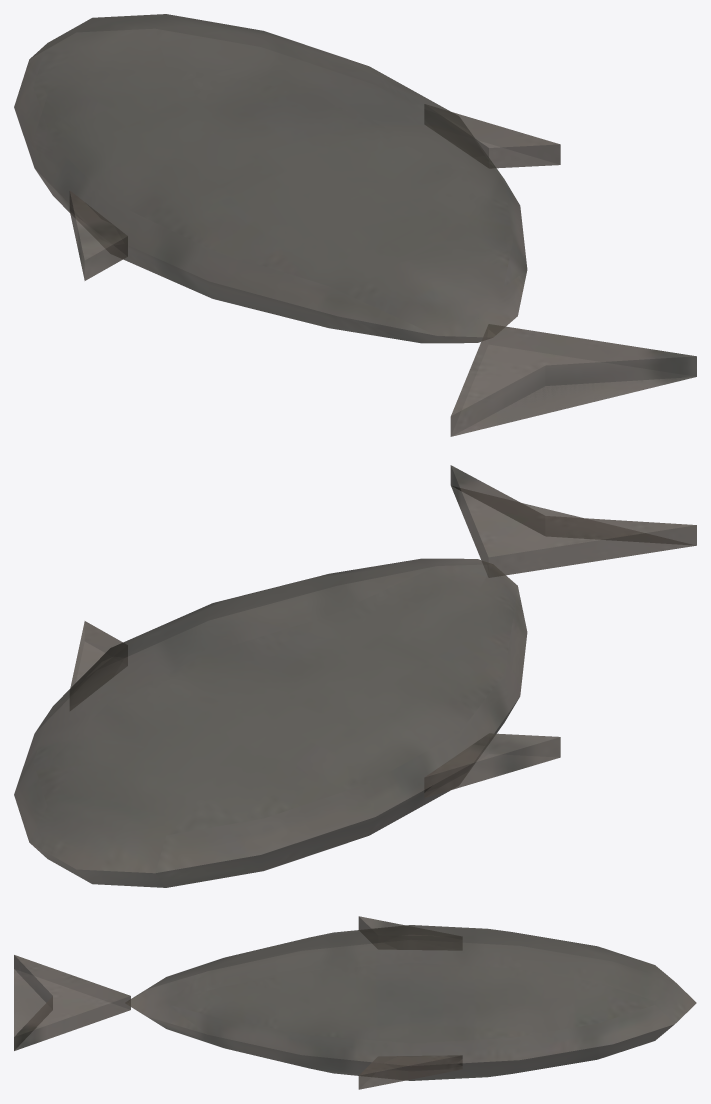
Rendered from fish.glb.
3 renders of one model, top to bottom at view 1: azimuth 30°, elevation 25°; view 2: azimuth 150°, elevation 25°; view 3: azimuth 270°, elevation 25°, orthographic. The views are drawn at different scales.
Visible parts, largest first — view 1: body, anim_tail_fish; view 2: body, anim_tail_fish; view 3: body, anim_tail_fish.
Boxes of the visible parts, bbox=[...] form: body: bbox=[14, 14, 560, 343]; anim_tail_fish: bbox=[450, 324, 696, 436]; body: bbox=[14, 558, 560, 887]; anim_tail_fish: bbox=[450, 465, 696, 575]; body: bbox=[125, 916, 696, 1089]; anim_tail_fish: bbox=[14, 955, 130, 1050].
Size of the model in its own units: 0.29 by 0.08 by 0.525.
Materials: 1 (1 with a texture image).
